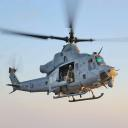helicopter: (1, 12, 119, 105)
